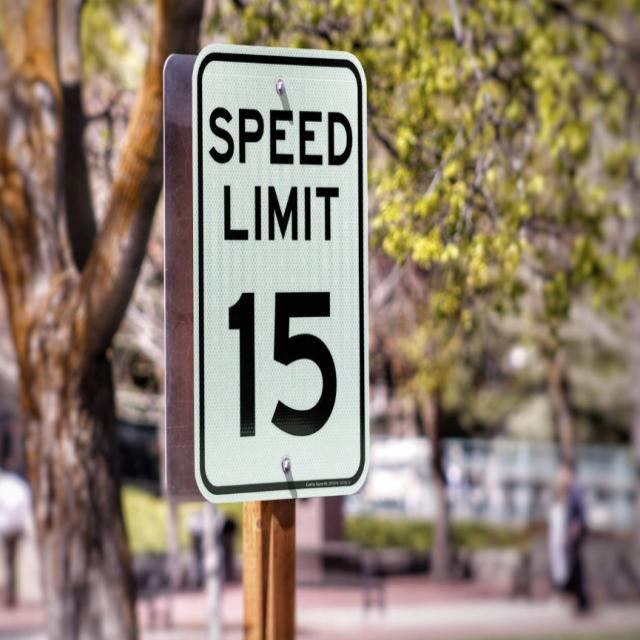speedLimit15: (202, 51, 364, 488)
